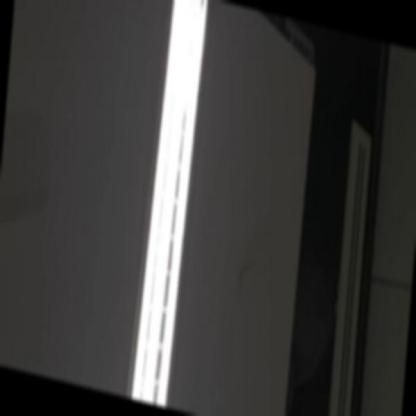light_on: (115, 0, 223, 414)
